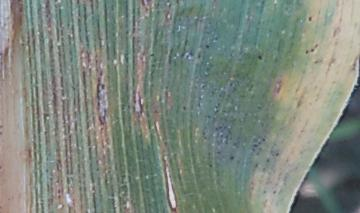tarspot: (95, 68, 106, 106), (97, 107, 108, 126), (41, 111, 51, 124), (148, 51, 157, 61), (255, 53, 264, 62), (197, 47, 202, 61), (306, 15, 313, 24), (17, 5, 24, 14), (272, 187, 278, 197), (181, 105, 188, 113), (273, 150, 280, 158), (260, 136, 267, 144), (228, 154, 234, 163), (251, 142, 260, 148), (264, 157, 271, 164), (206, 162, 213, 169), (215, 149, 222, 156), (304, 48, 310, 56), (204, 43, 211, 49), (139, 1, 145, 8), (124, 28, 130, 35), (228, 80, 234, 87), (314, 41, 318, 50), (309, 47, 314, 54), (254, 161, 258, 169), (75, 1, 81, 6), (1, 163, 4, 173), (175, 1, 181, 5), (1, 131, 4, 136)
